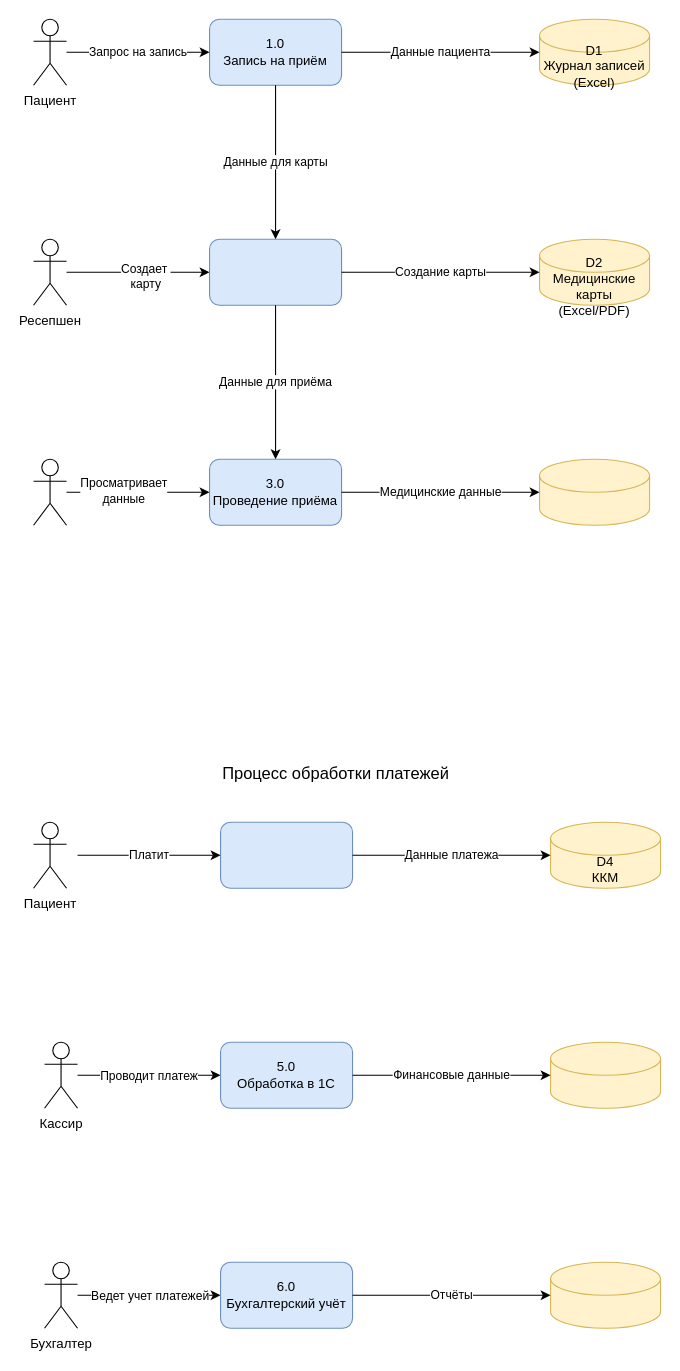
The diagram is 680 pixels wide and 1371 high, and some of its shapes have lost their labels. The shapes that lost their labels are listed below. From the top down, each one's box as (x1, y1, x2, y2) in pixels, then its label:
(208, 238, 342, 305): 2.0 Создание карты
(32, 458, 67, 525): Врач
(538, 458, 650, 525): D3 Результаты анализов (JPG/PDF)
(219, 821, 353, 888): 4.0 Приём платежа
(549, 1041, 661, 1108): D5 1С:Бухгалтерия
(549, 1261, 661, 1328): D6 Excel отчёты
